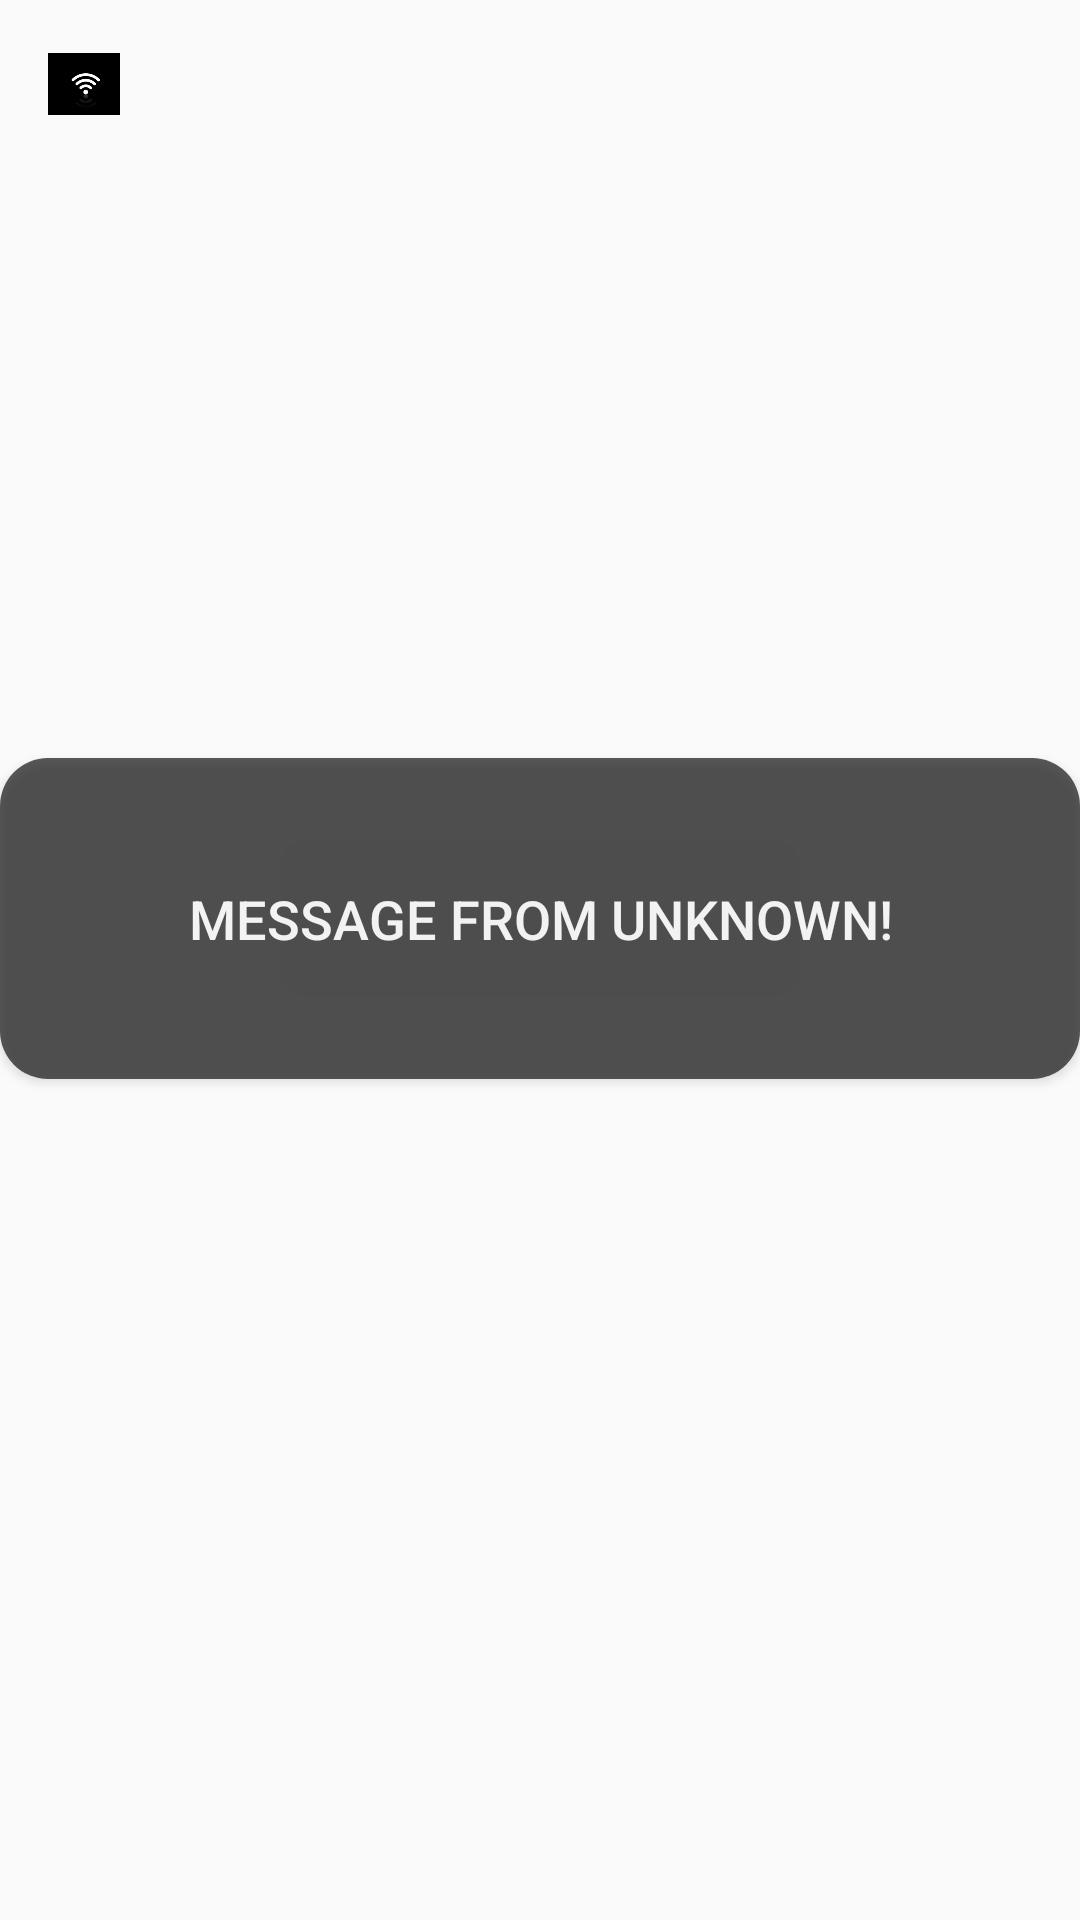

Icon bounding boxes for this 1080*1920 phone screenshot, format [x1,y1,x2,y2]:
wifi: [48,53,120,115]
